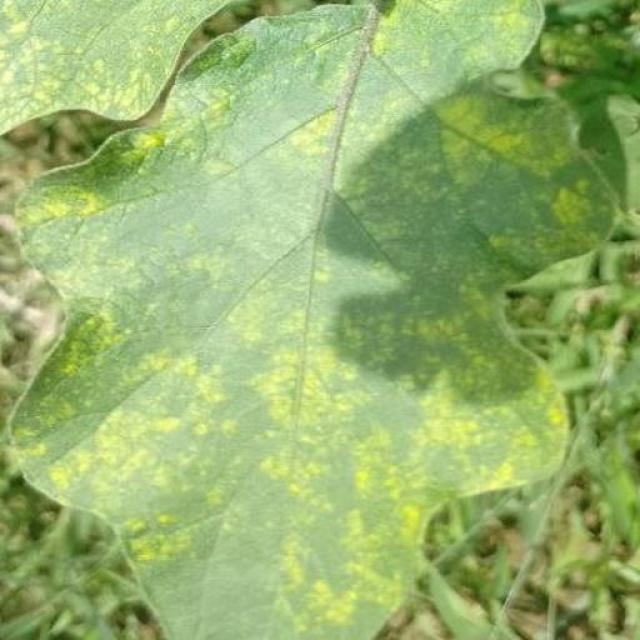leaf_spot: (2, 1, 245, 124), (438, 302, 582, 439), (325, 424, 441, 546), (456, 402, 578, 505), (229, 417, 343, 522), (18, 220, 137, 313), (248, 328, 348, 434), (433, 82, 523, 180), (85, 396, 181, 481), (2, 364, 82, 462), (396, 362, 478, 446), (39, 442, 129, 516), (274, 102, 358, 167), (294, 568, 373, 636), (260, 501, 312, 597), (548, 168, 608, 250), (115, 509, 189, 573), (352, 3, 422, 67), (286, 229, 350, 294), (448, 6, 550, 46), (68, 302, 125, 371), (219, 280, 275, 350), (14, 184, 104, 227), (162, 407, 244, 449), (132, 342, 202, 387), (475, 220, 537, 270), (185, 240, 234, 300), (264, 302, 326, 346), (122, 128, 178, 170), (187, 361, 224, 405), (200, 153, 240, 188), (166, 217, 205, 249), (178, 133, 193, 152)
